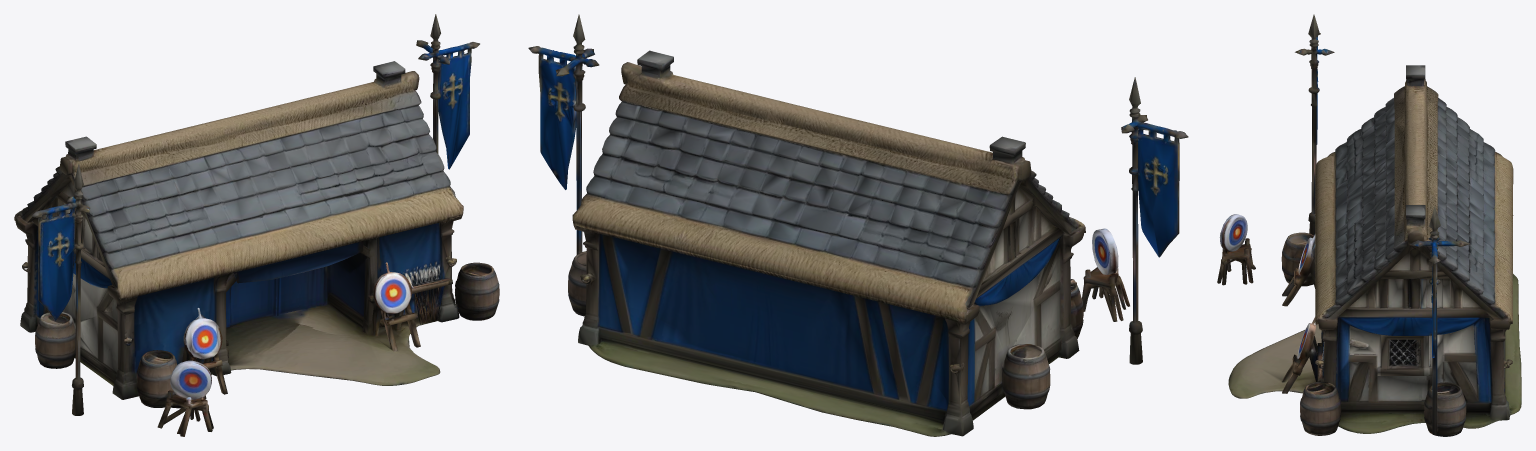
The model's file is hum_range.glb.
The picture shows the model from 3 angles, left to right: view 1: azimuth 30°, elevation 25°; view 2: azimuth 150°, elevation 25°; view 3: azimuth 270°, elevation 25°; orthographic projection. The views are drawn at different scales.
Parts seen in each view (by area): view 1: node_0; view 2: node_0; view 3: node_0.
Boxes of the visible parts, x1=… form: node_0: x1=14, y1=14, x2=499, y2=436; node_0: x1=528, y1=14, x2=1188, y2=436; node_0: x1=1217, y1=14, x2=1521, y2=436.
Size of the model in its own units: 1.11 by 0.5312 by 0.6144.
1 material, 1 textured.
